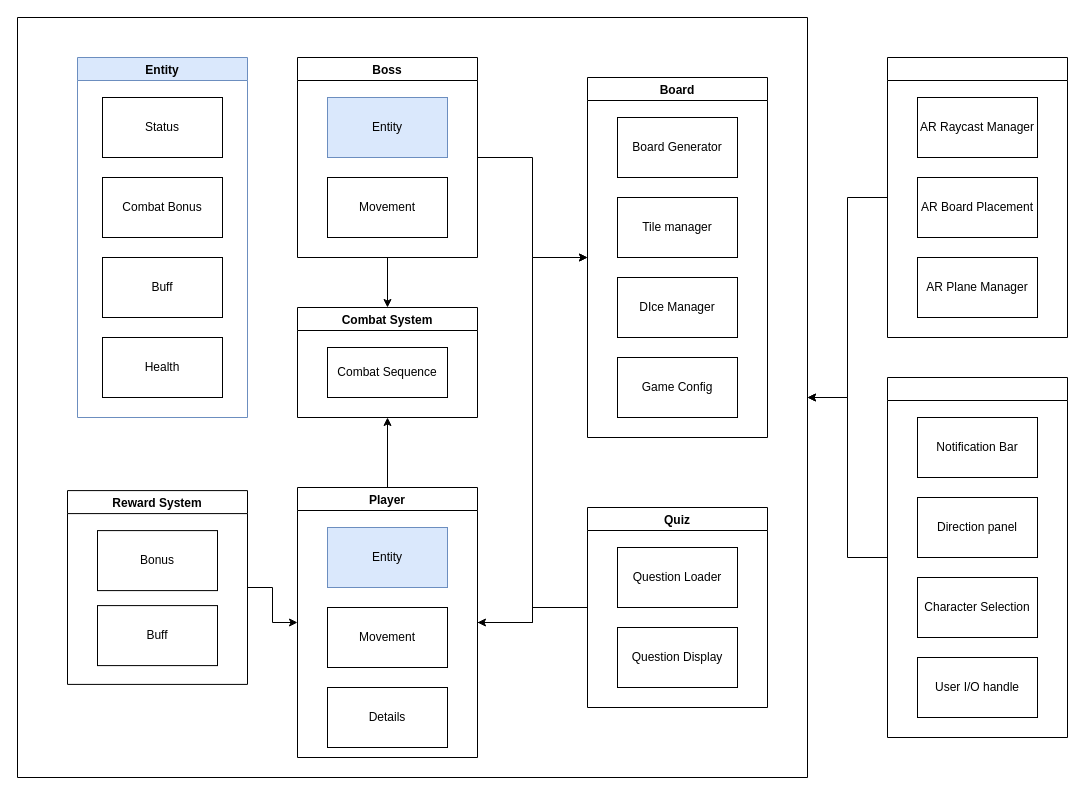
The diagram is 1085 pixels wide and 795 high, and some of its shapes have lost their labels. Here are the shapes that lost their labels. From the top down, the box of each, then its label:
(886, 56, 1068, 338): Augmented Reality
(886, 376, 1068, 738): UI Manager
